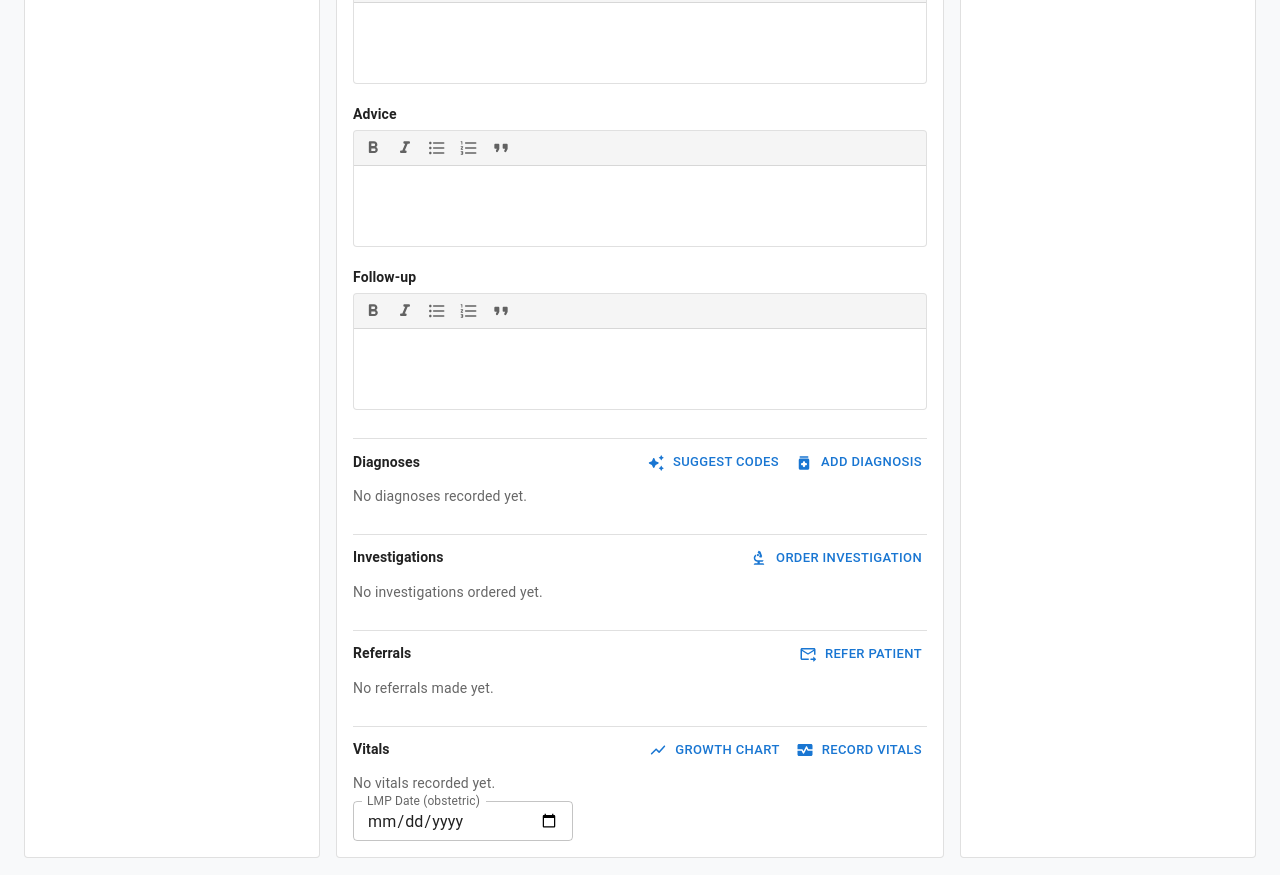
Test case: EncounterWorkspace — investigation orders (REQ127) › orders an investigation via the real orderInvestigation mutation and refetches
(page scrolled)
Expected: the text "No investigations ordered yet." is shown, [353,584,543,600]
Click the button "Order Investigation" at (837, 558), box [747,543,927,574]
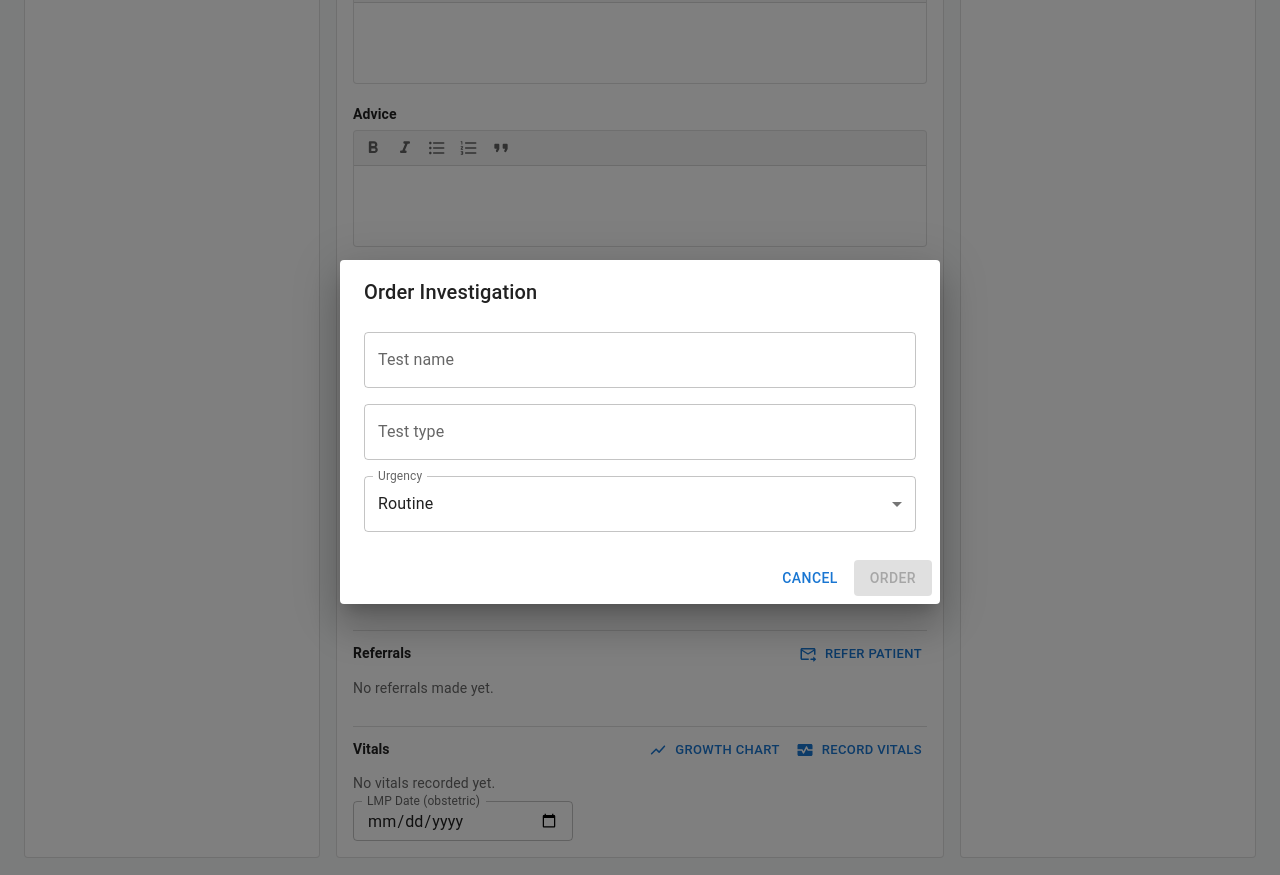
Type "Chest X-Ray" into the field labelled "Test name" at (640, 360), box [364,332,916,388]
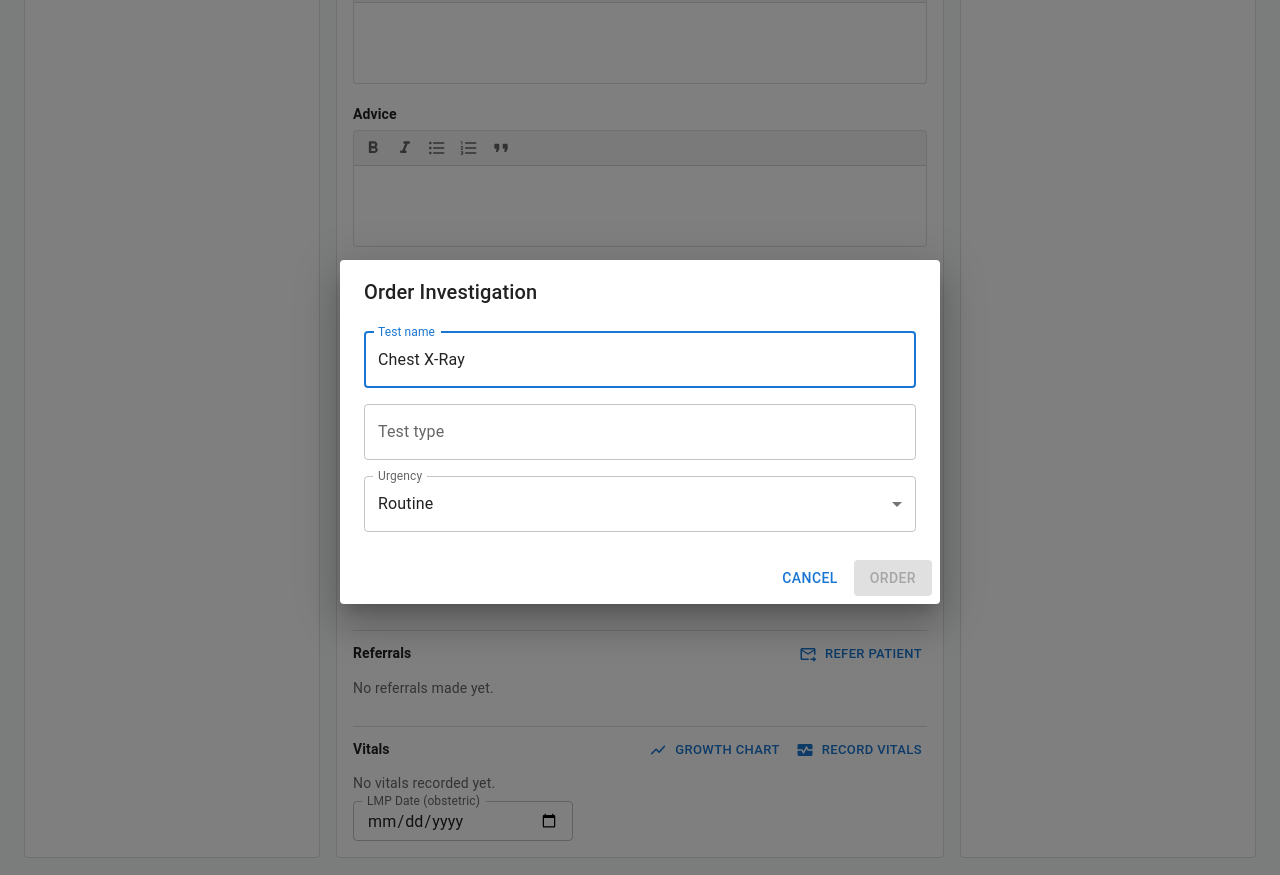
Type "Imaging" into the field labelled "Test type" at (640, 432), box [364,404,916,460]
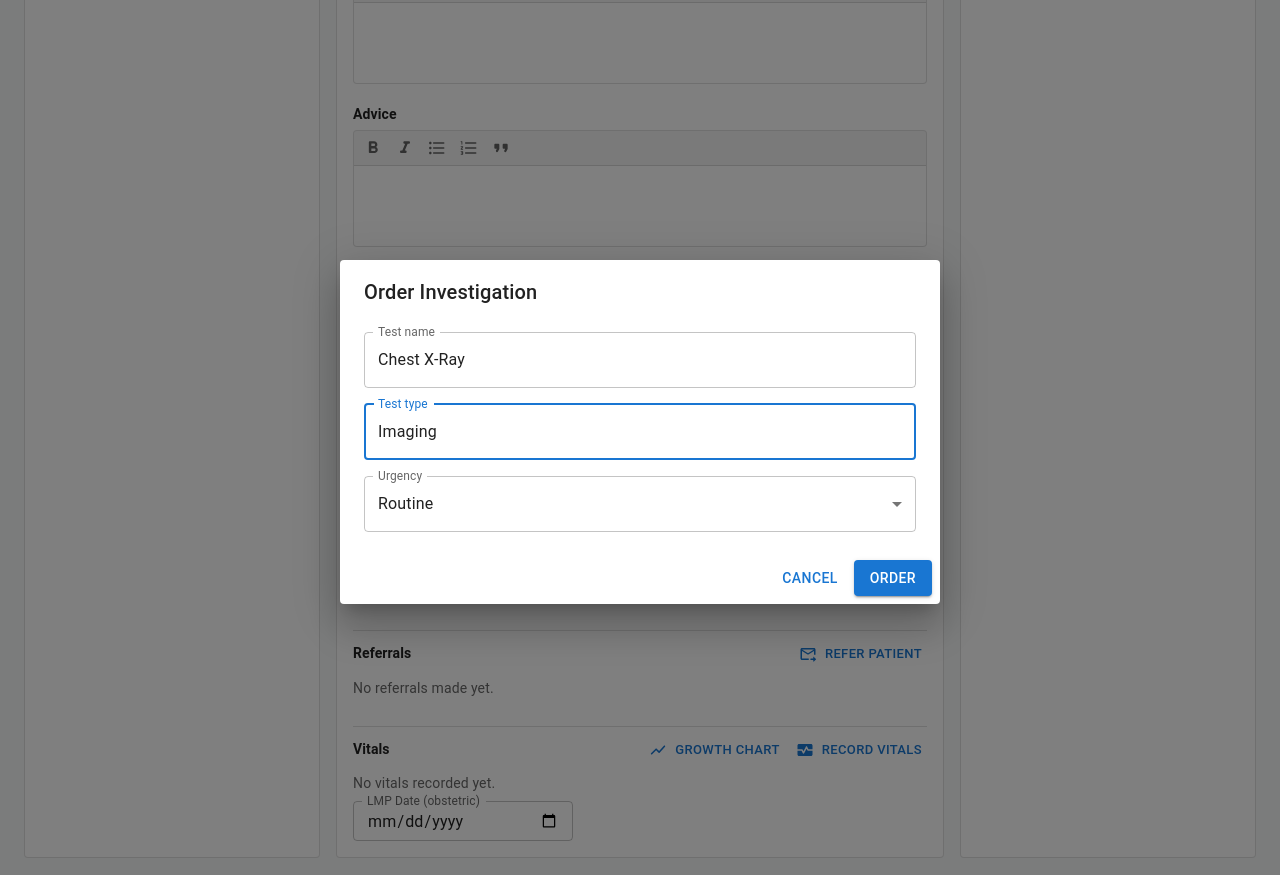
Select "Urgent" in the dropdown labelled "Urgency" at (640, 504), box [364,476,916,532]
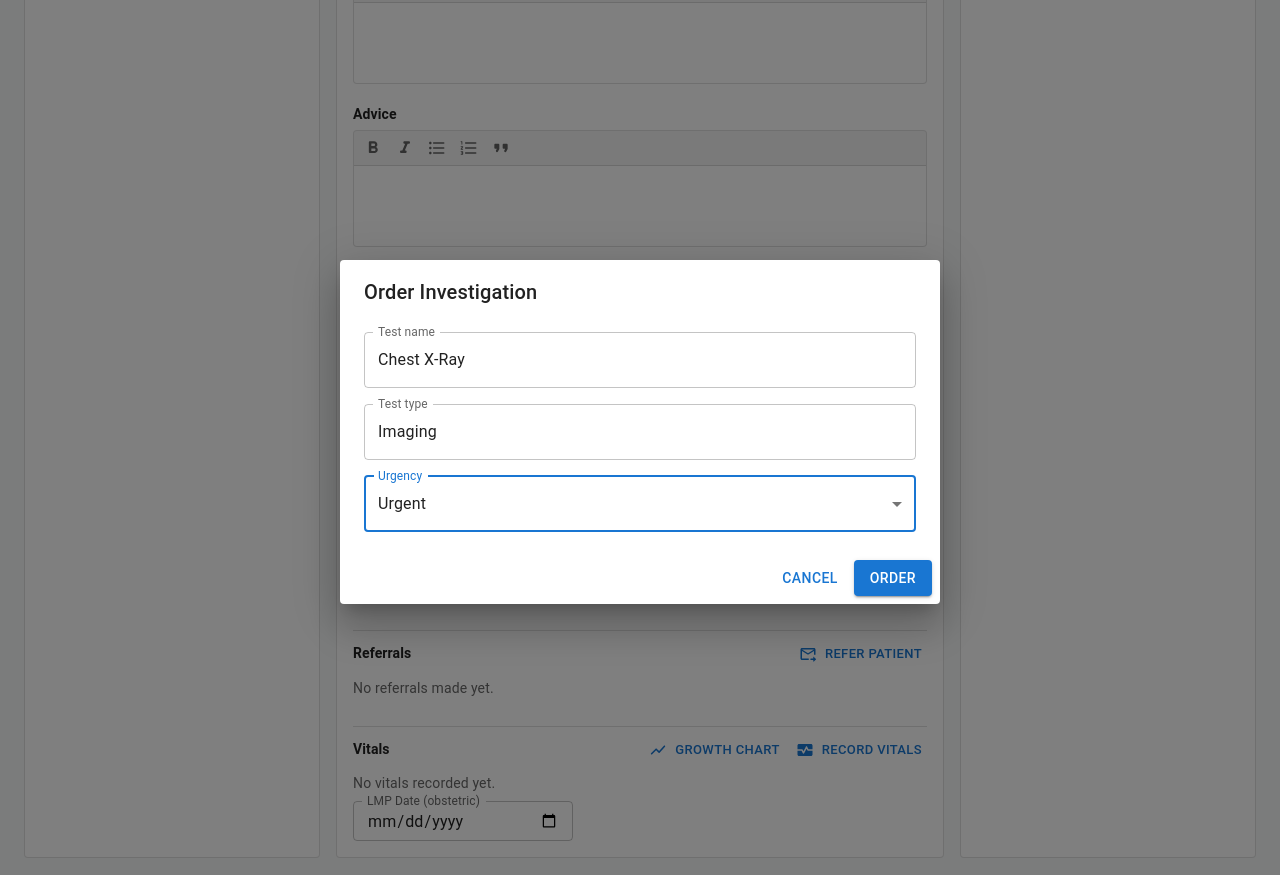
Click the button "Order" at (893, 578), box [854,560,932,596]
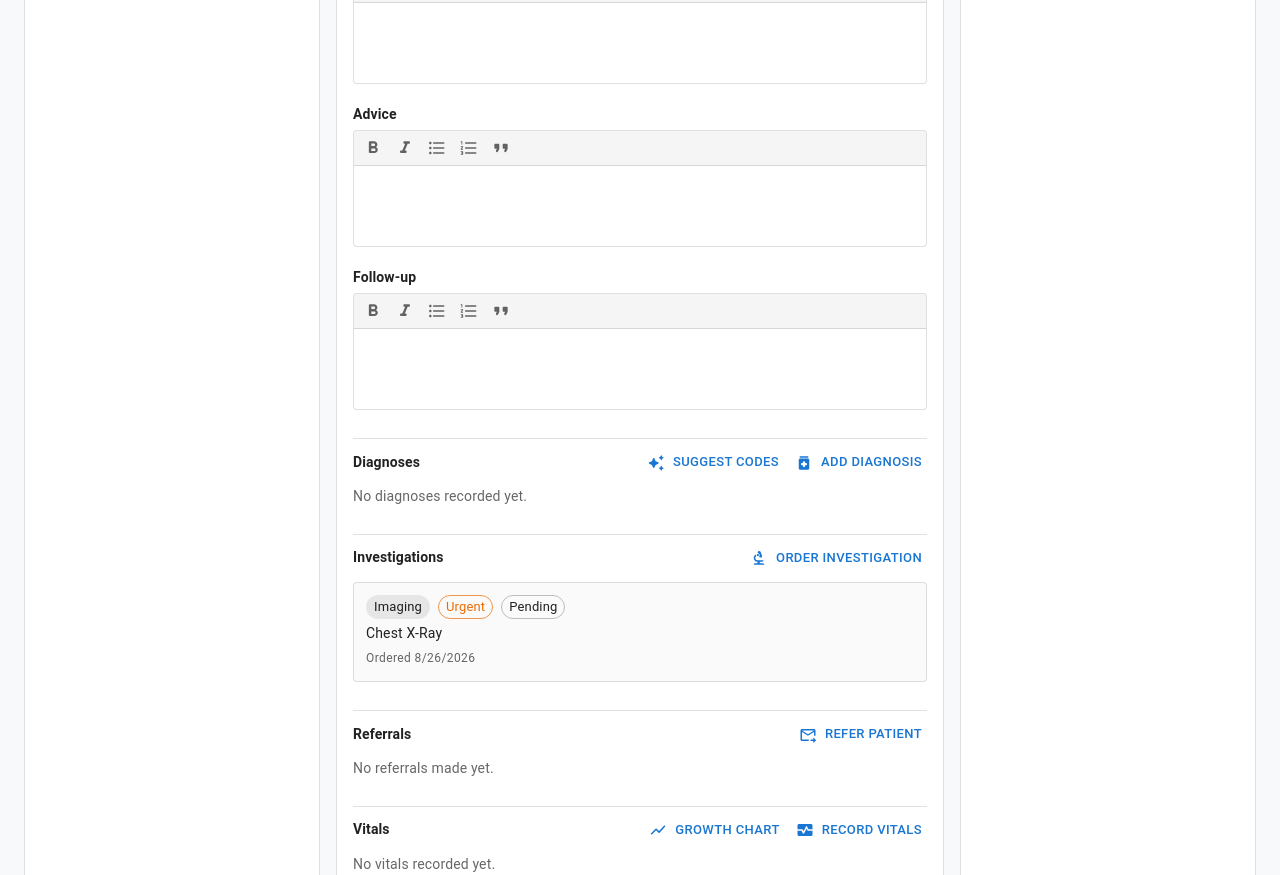
Expected: the text "Chest X-Ray" is shown, [366,625,442,641]
Expected: the text "urgent" is shown, [446,599,485,614]
